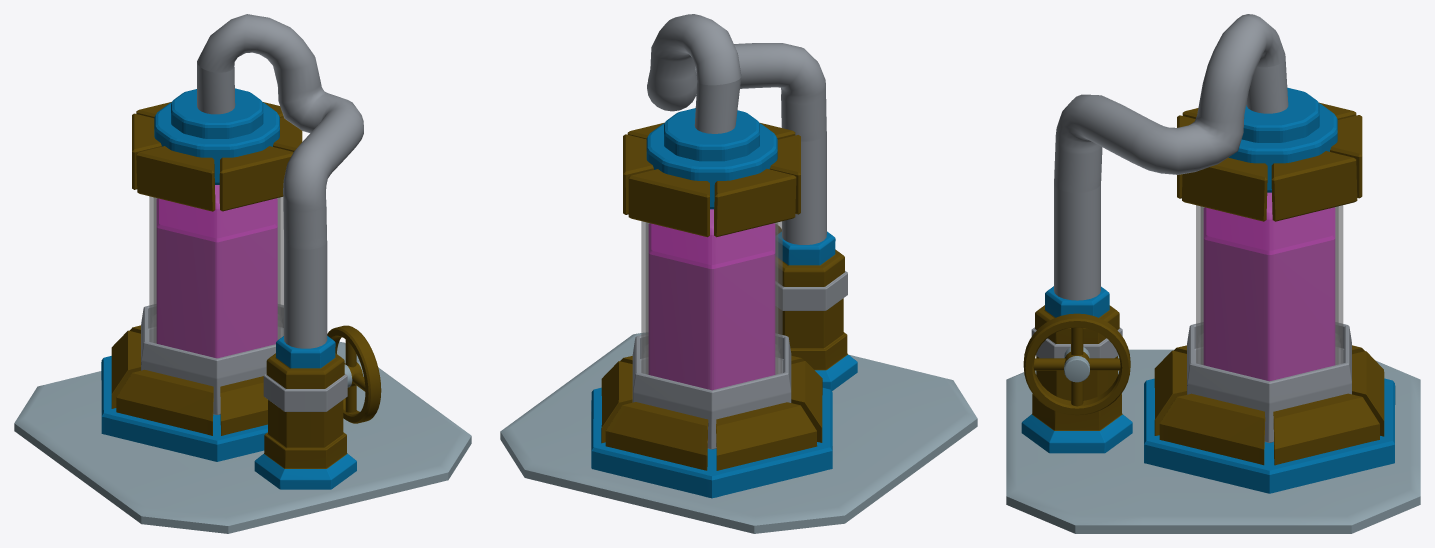
Rendered from Elixir Collector.fbx.
3 views of the same model, side by side, from view 1: azimuth 30°, elevation 25°; view 2: azimuth 150°, elevation 25°; view 3: azimuth 270°, elevation 25° (orthographic). The views are drawn at different scales.
Parts seen in each view (by area): view 1: polySurface3, polySurface2, pCylinder14; view 2: polySurface3, polySurface2; view 3: polySurface3, polySurface2, pCylinder14.
Boxes of the visible parts, x1,y1,x2,y2 form: polySurface3: (14, 14, 471, 533); polySurface2: (157, 185, 277, 357); pCylinder14: (327, 325, 381, 423); polySurface3: (500, 14, 977, 533); polySurface2: (649, 209, 774, 389); polySurface3: (1006, 14, 1420, 533); polySurface2: (1204, 193, 1334, 380); pCylinder14: (1023, 313, 1130, 415).
Size of the model in its own units: 3296 by 3859 by 3296.
